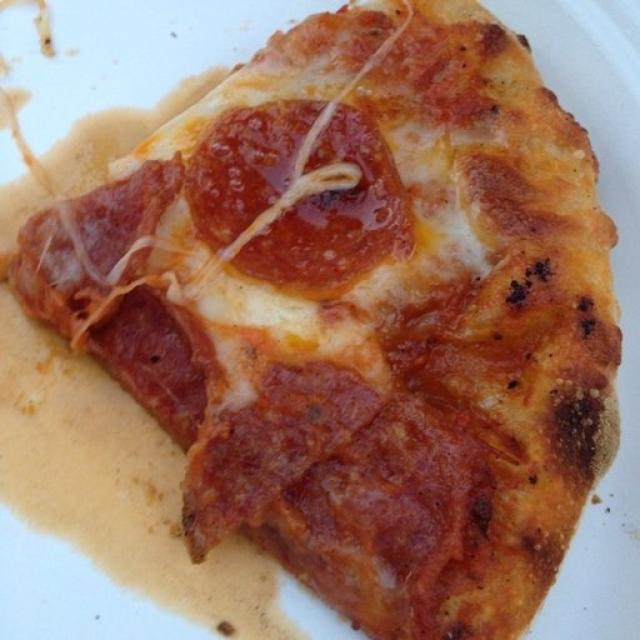Pepperoni: (200, 106, 398, 288), (192, 373, 373, 553), (26, 150, 186, 274), (78, 294, 205, 442), (325, 402, 428, 571)
Pizza: (2, 0, 624, 640)
